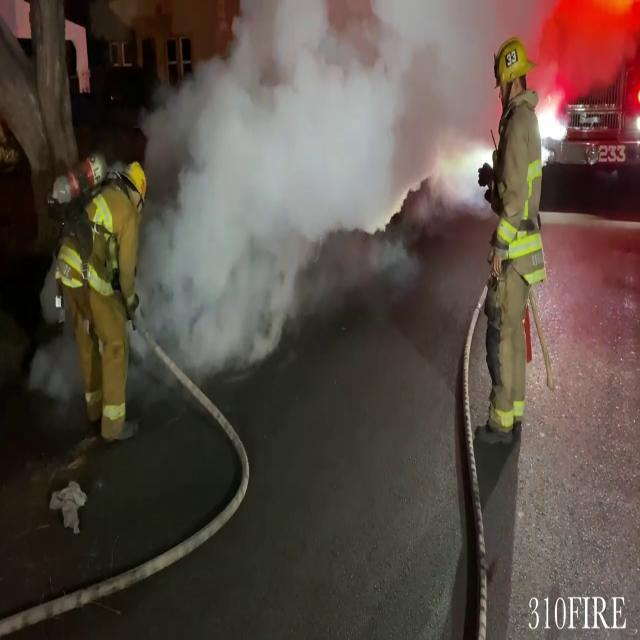Smoke: (141, 0, 445, 382)
